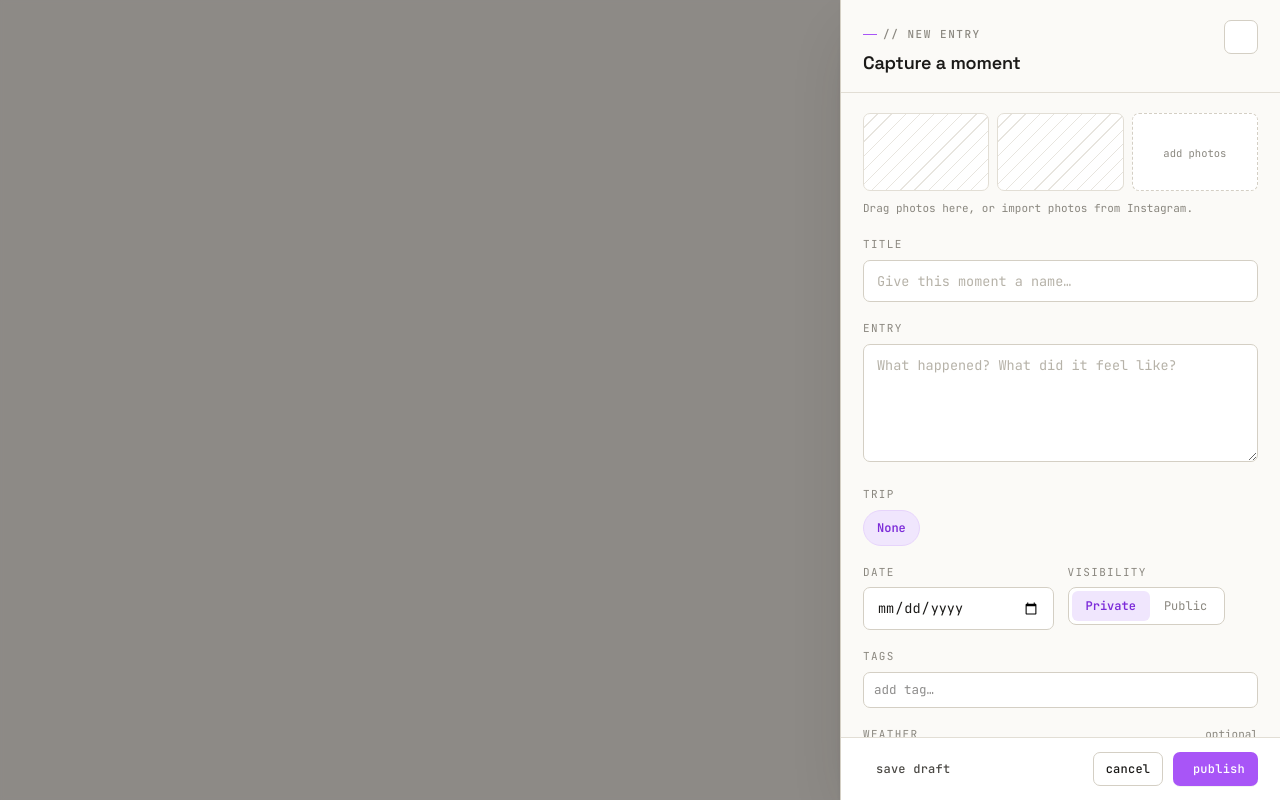
Test: AppNewEntry › adds a tag when enter is pressed in the tag input
Type "adventure" into the field with placeholder "add tag…".
click(1060, 690); type("adventure")  # box 874,681 -> 1247,700
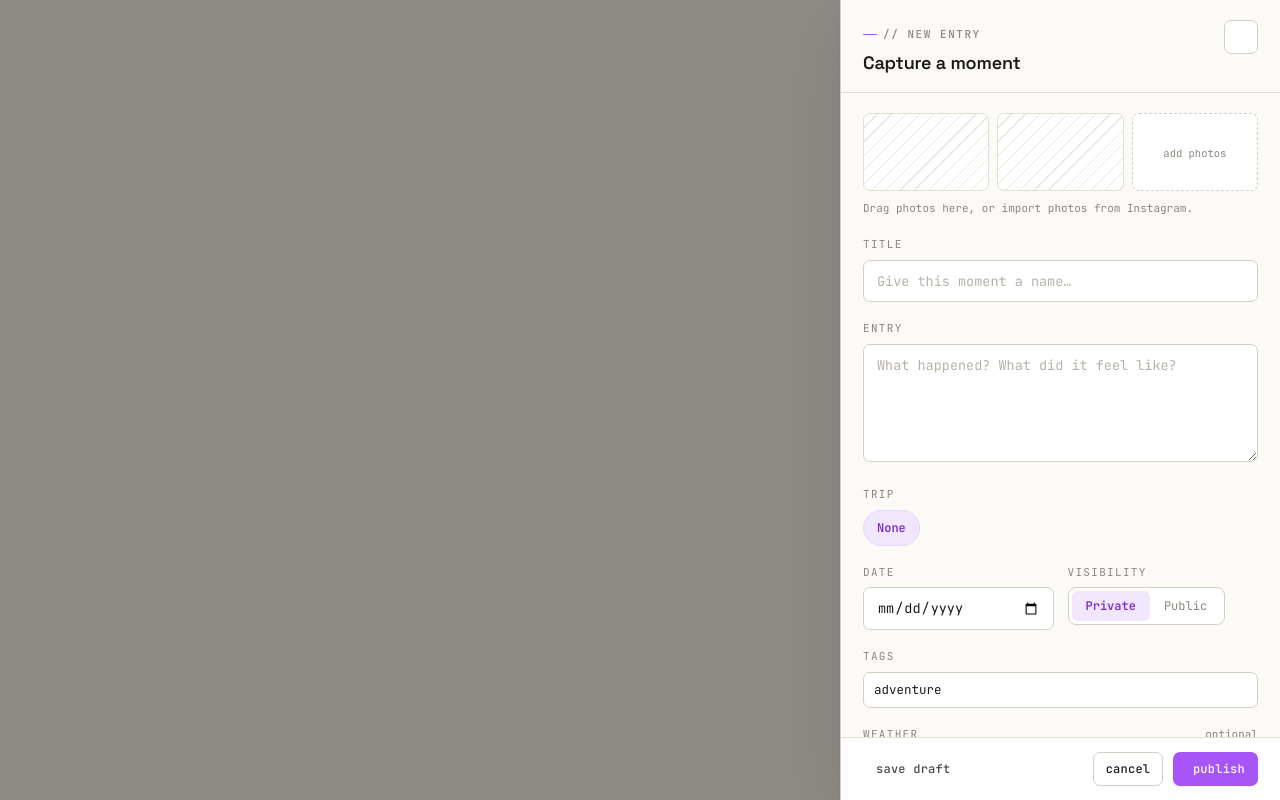
Press Enter in the 2nd field, box 874,681 -> 1247,700
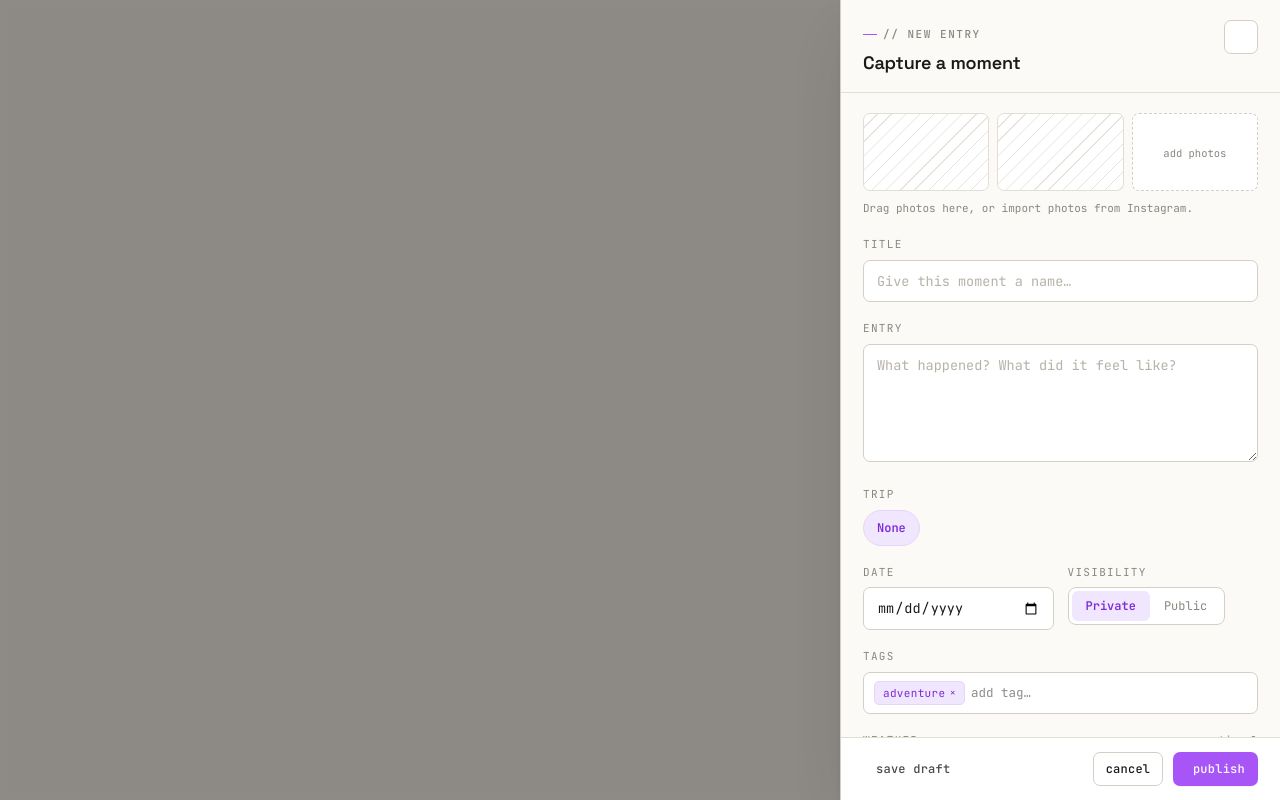
Check: the element with class "tags-input" shows "adventure", box 883,686 -> 945,700
